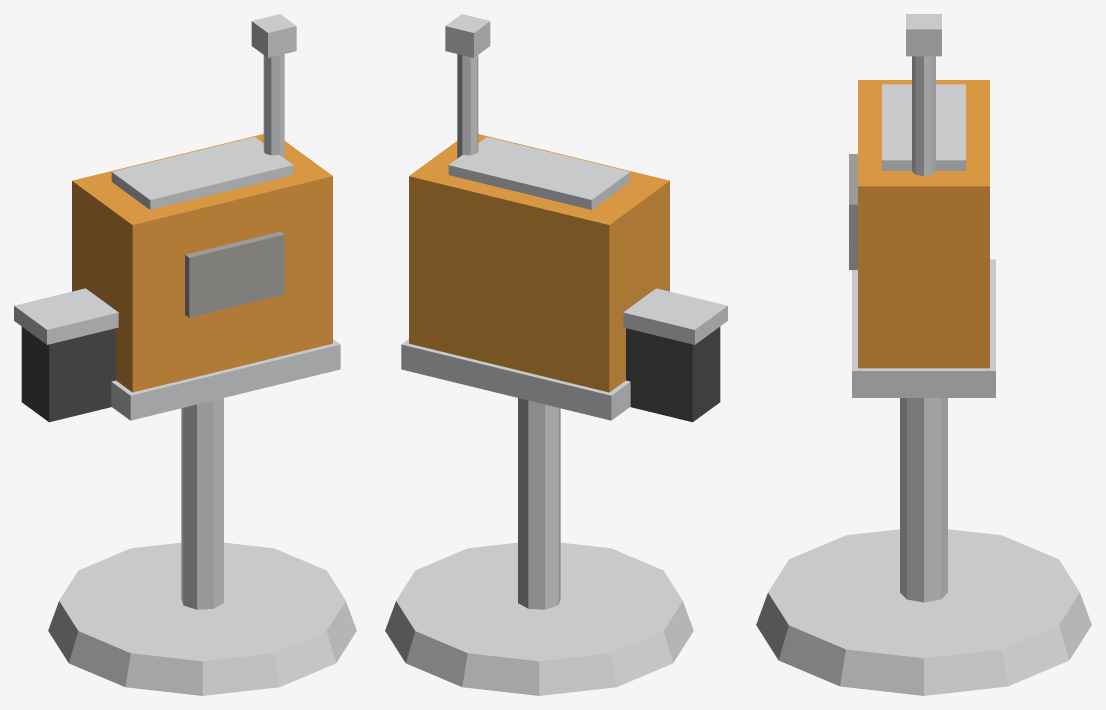
Rendered from volcano-and-lava-fields-volcano-and-lava-fields-gas-mo-d6dda718__37487.glb.
3 renders of one model, left to right at view 1: azimuth 30°, elevation 25°; view 2: azimuth 150°, elevation 25°; view 3: azimuth 270°, elevation 25°, orthographic. The views are drawn at different scales.
Visible parts, largest first — view 1: volcano-and-lava-fields-gas-monitor-box, monitor-lid/hiVis, monitor-lid/steel; view 2: volcano-and-lava-fields-gas-monitor-box, monitor-lid/hiVis, monitor-lid/steel; view 3: volcano-and-lava-fields-gas-monitor-box, monitor-lid/hiVis, monitor-lid/steel.
Boxes of the visible parts, x1,y1,x2,y2 form: volcano-and-lava-fields-gas-monitor-box: [14, 14, 356, 695]; monitor-lid/hiVis: [72, 134, 332, 242]; monitor-lid/steel: [111, 137, 293, 209]; volcano-and-lava-fields-gas-monitor-box: [385, 14, 727, 695]; monitor-lid/hiVis: [409, 134, 669, 242]; monitor-lid/steel: [448, 137, 630, 209]; volcano-and-lava-fields-gas-monitor-box: [756, 14, 1091, 695]; monitor-lid/hiVis: [858, 80, 989, 205]; monitor-lid/steel: [882, 84, 965, 170].
Bounding box in the file's own units: 0.6401 × 1.18 × 0.5599.
4 materials, 1 textured.
